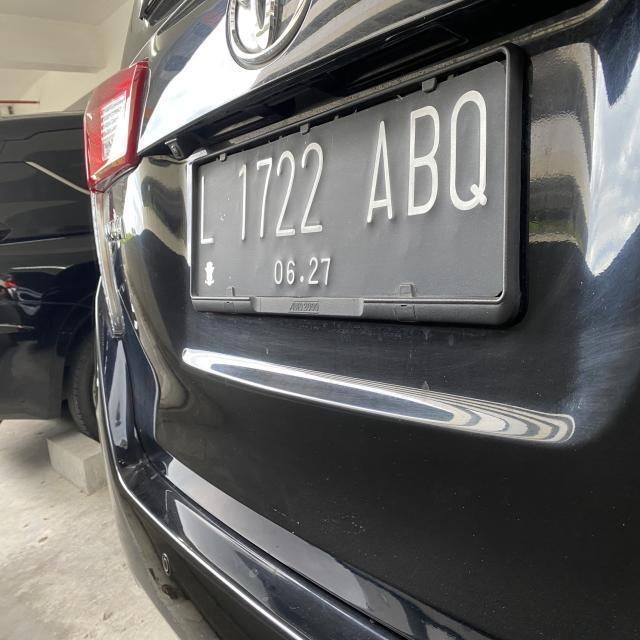1: (236, 163, 252, 244)
2: (300, 138, 328, 238), (276, 152, 298, 240)
7: (255, 157, 274, 239)
A: (366, 119, 398, 230)
B: (409, 106, 442, 220)
L: (194, 166, 220, 253)
Q: (448, 87, 492, 214)
